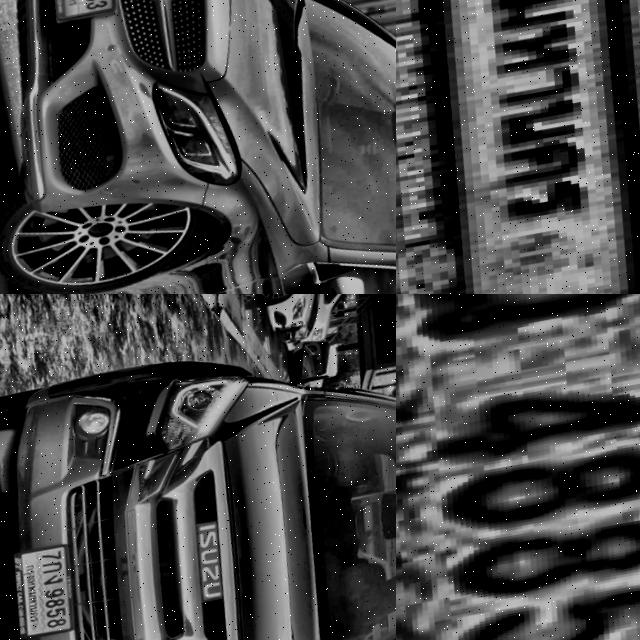license-plate: (396, 294, 640, 640), (396, 0, 640, 294), (6, 539, 95, 640), (46, 0, 128, 23)
